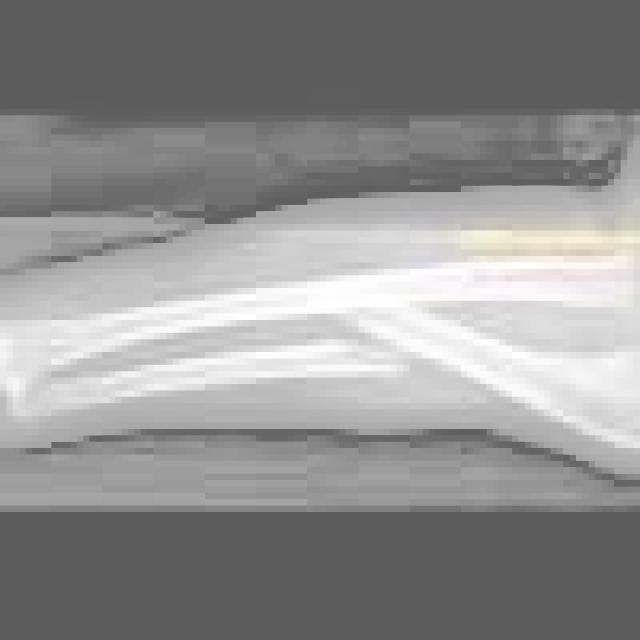Fracture Dislocation: (342, 301, 426, 392)
